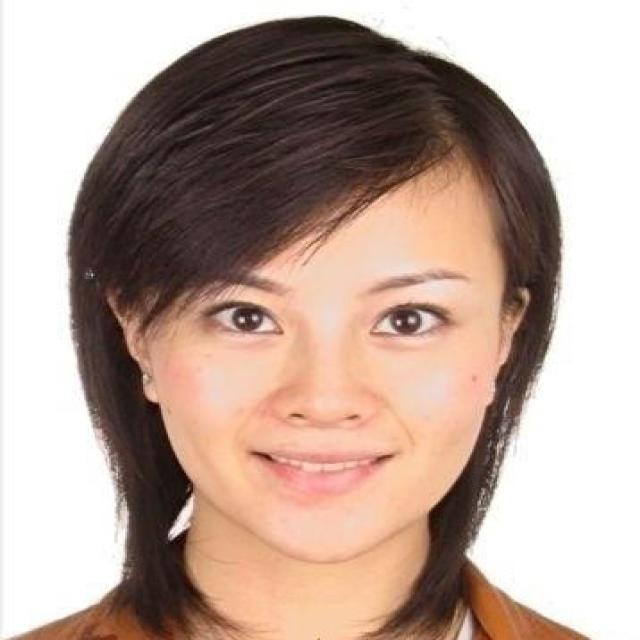Open: (366, 298, 451, 339), (204, 299, 284, 338)
